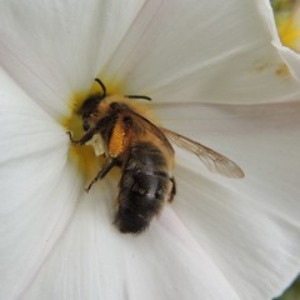bee: (65, 72, 250, 250)
